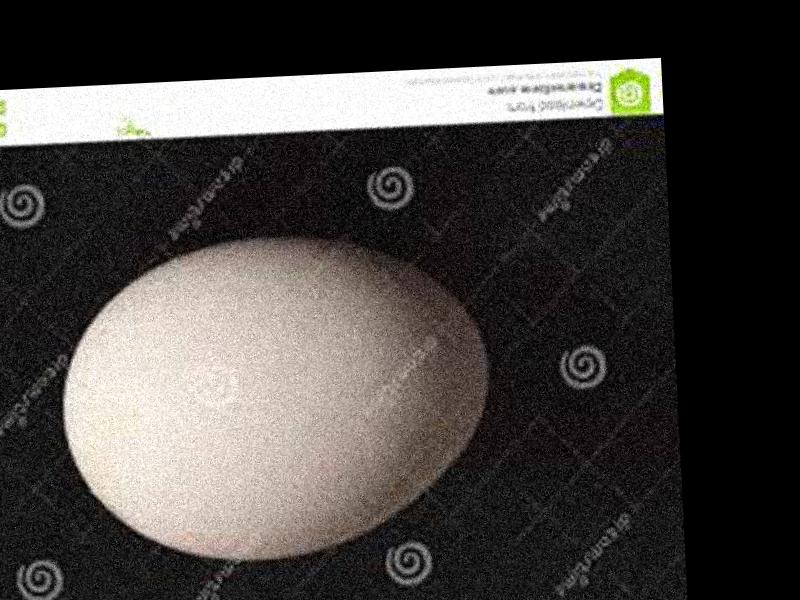Eggs: (52, 227, 497, 568)
